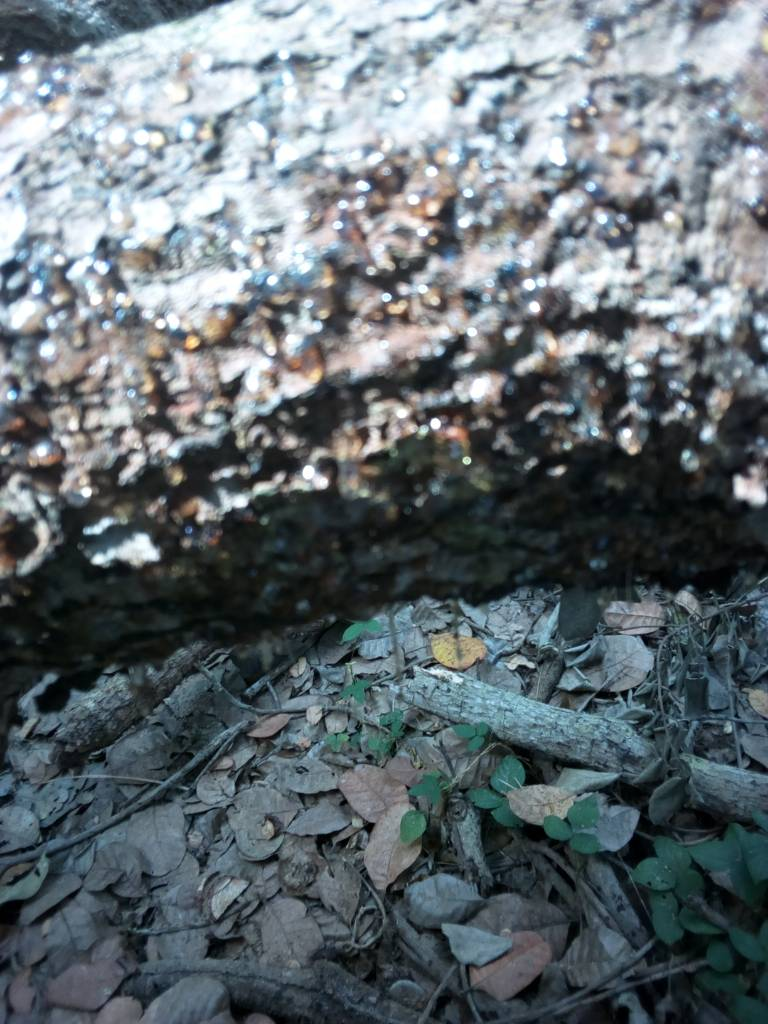Gommose: (11, 46, 758, 600)
